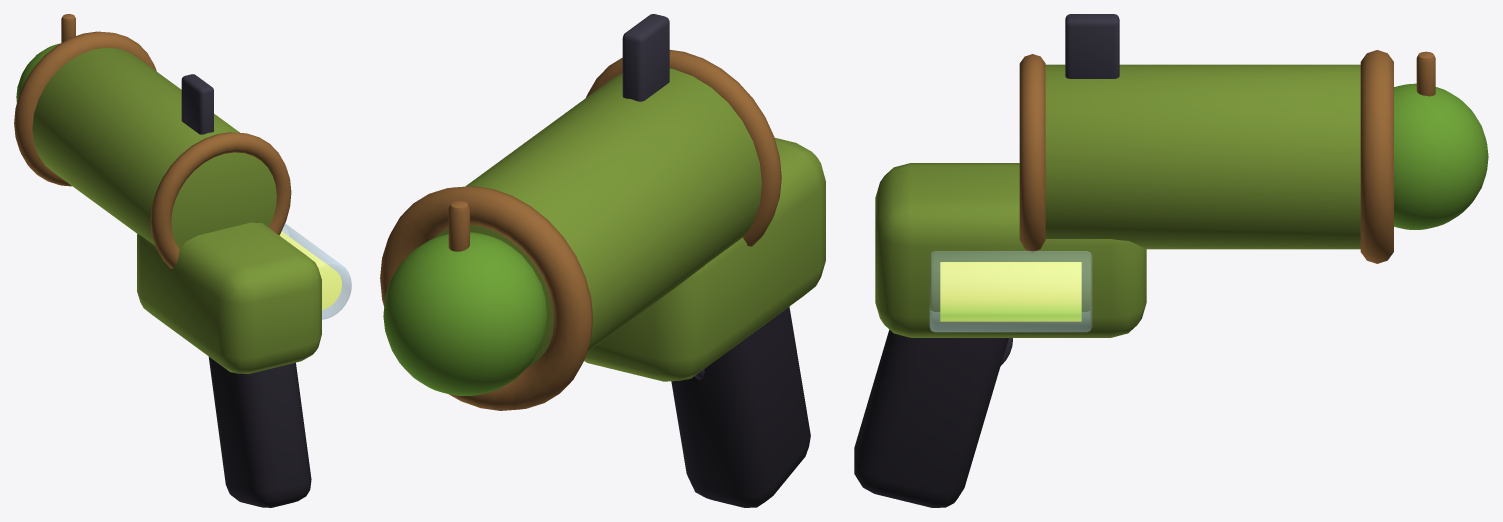
File: StinkLobber.fbx
The picture shows the model from 3 angles, left to right: view 1: azimuth 30°, elevation 25°; view 2: azimuth 150°, elevation 25°; view 3: azimuth 270°, elevation 25°; orthographic projection. The views are drawn at different scales.
Visible parts, largest first — view 1: Body, Grip, Trim, Glass, Metal, Gas, Bomb; view 2: Body, Trim, Bomb, Grip, Metal; view 3: Body, Grip, Glass, Trim, Bomb, Gas, Metal.
Boxes of the visible parts, left/top/right/bottom form: Body: left=32, top=47, right=321, bottom=373; Grip: left=208, top=357, right=311, bottom=507; Trim: left=14, top=14, right=291, bottom=268; Glass: left=279, top=223, right=351, bottom=319; Metal: left=181, top=74, right=213, bottom=134; Gas: left=279, top=231, right=341, bottom=309; Bomb: left=16, top=43, right=59, bottom=101; Body: left=434, top=68, right=825, bottom=381; Trim: left=380, top=50, right=781, bottom=410; Bomb: left=383, top=232, right=547, bottom=395; Grip: left=671, top=306, right=810, bottom=507; Metal: left=622, top=14, right=704, bottom=379; Body: left=875, top=64, right=1360, bottom=337; Grip: left=854, top=330, right=1008, bottom=507; Glass: left=929, top=251, right=1092, bottom=332; Trim: left=1019, top=50, right=1435, bottom=263; Bomb: left=1394, top=83, right=1488, bottom=229; Gas: left=940, top=262, right=1081, bottom=321; Metal: left=1000, top=14, right=1119, bottom=366.
Size of the model in its own units: 0.905 by 1.96 by 2.34.
